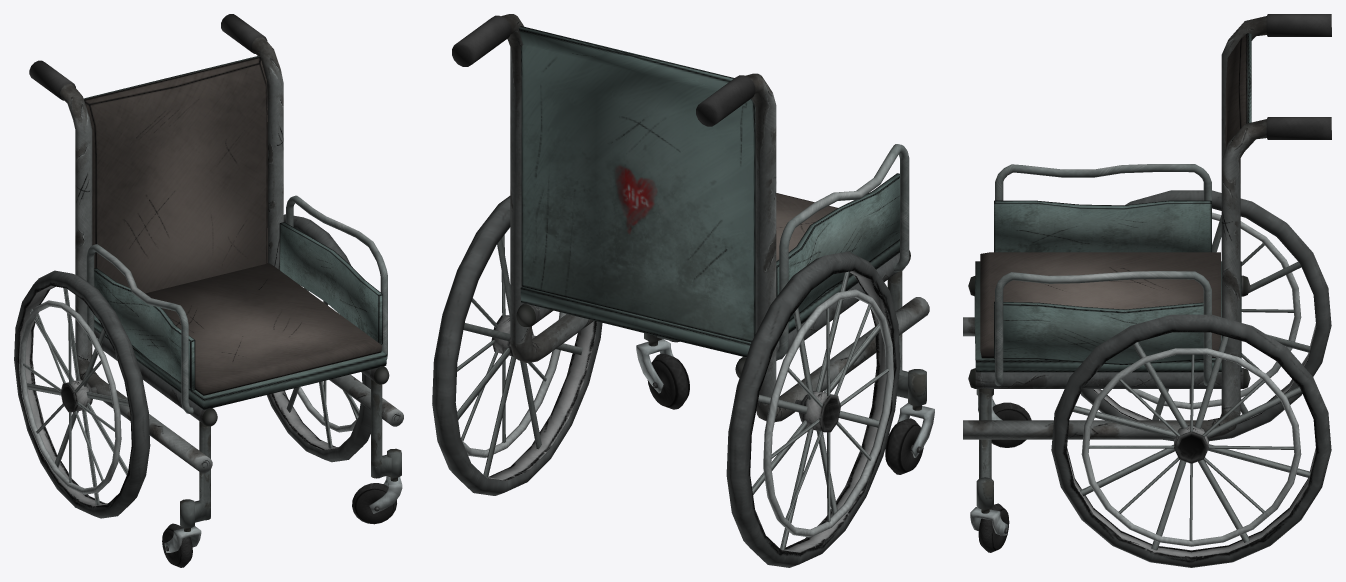
File: WheelChair.fbx
3 renders of one model, left to right at view 1: azimuth 30°, elevation 25°; view 2: azimuth 150°, elevation 25°; view 3: azimuth 270°, elevation 25°, orthographic. The views are drawn at different scales.
Parts seen in each view (by area): view 1: Cube; view 2: Cube; view 3: Cube.
Boxes of the visible parts, bbox=[...] form: Cube: bbox=[14, 14, 403, 567]; Cube: bbox=[432, 14, 934, 567]; Cube: bbox=[963, 14, 1331, 567].
Bounding box in the file's own units: 0.7104 × 1.04 × 0.7922.
